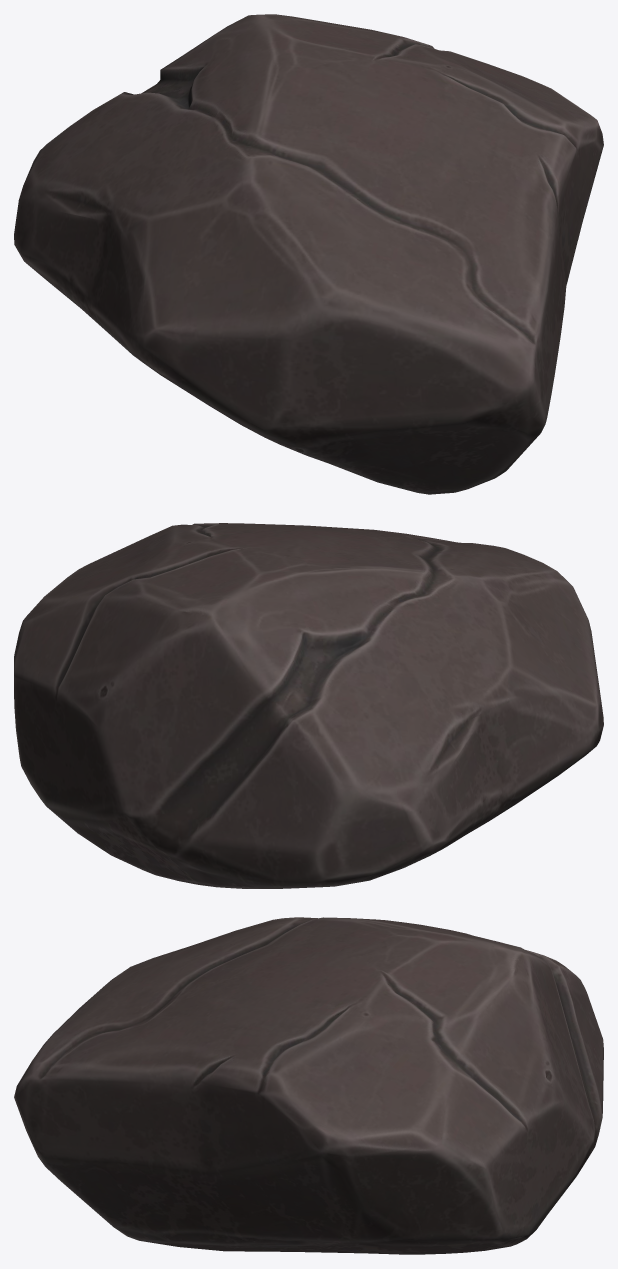
The model's file is obsidian_cracked_c.glb.
3 renders of one model, top to bottom at view 1: azimuth 30°, elevation 25°; view 2: azimuth 150°, elevation 25°; view 3: azimuth 270°, elevation 25°, orthographic. The views are drawn at different scales.
Parts seen in each view (by area): view 1: SM_KC_Base_Stone_Small_01_C; view 2: SM_KC_Base_Stone_Small_01_C; view 3: SM_KC_Base_Stone_Small_01_C.
Part boxes in pixels (x1,y1,x2,y2): SM_KC_Base_Stone_Small_01_C: [14, 14, 603, 494]; SM_KC_Base_Stone_Small_01_C: [14, 523, 603, 888]; SM_KC_Base_Stone_Small_01_C: [14, 917, 603, 1254].
Size of the model in its own units: 0.4782 by 0.3149 by 0.5475.
Materials: 1 (1 with a texture image).
